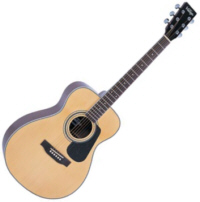guitar: (2, 2, 197, 199)
